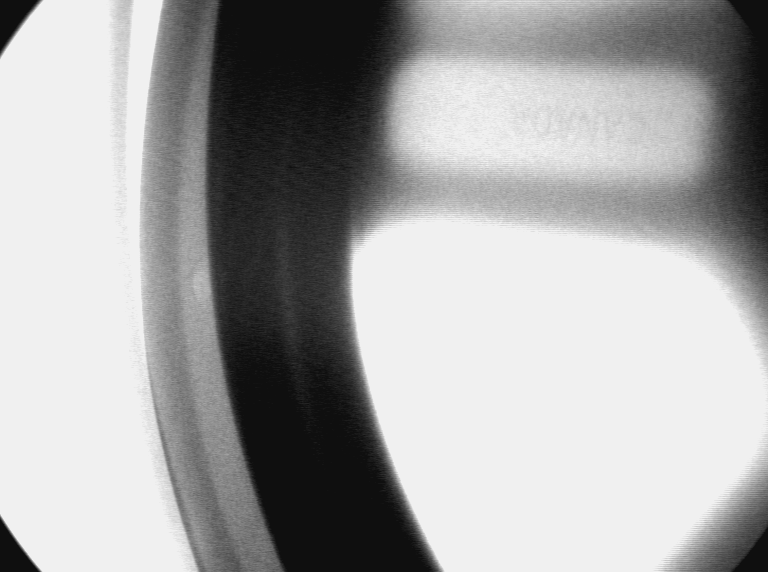defect: (189, 258, 214, 313)
